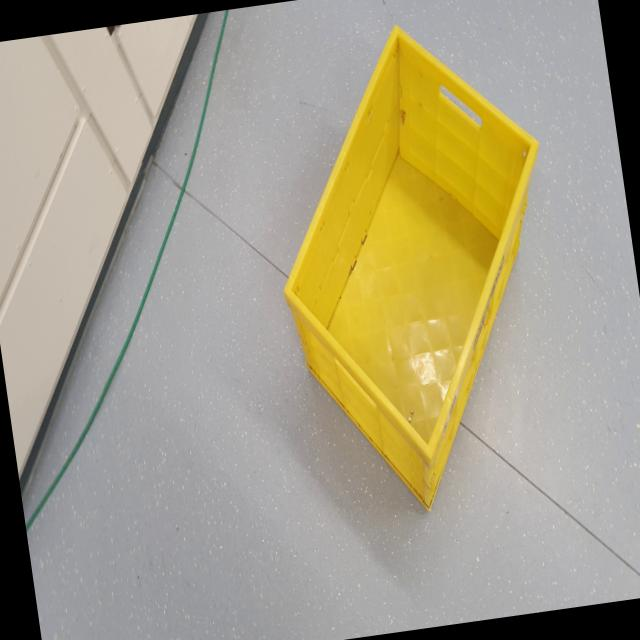box: (240, 0, 599, 543)
